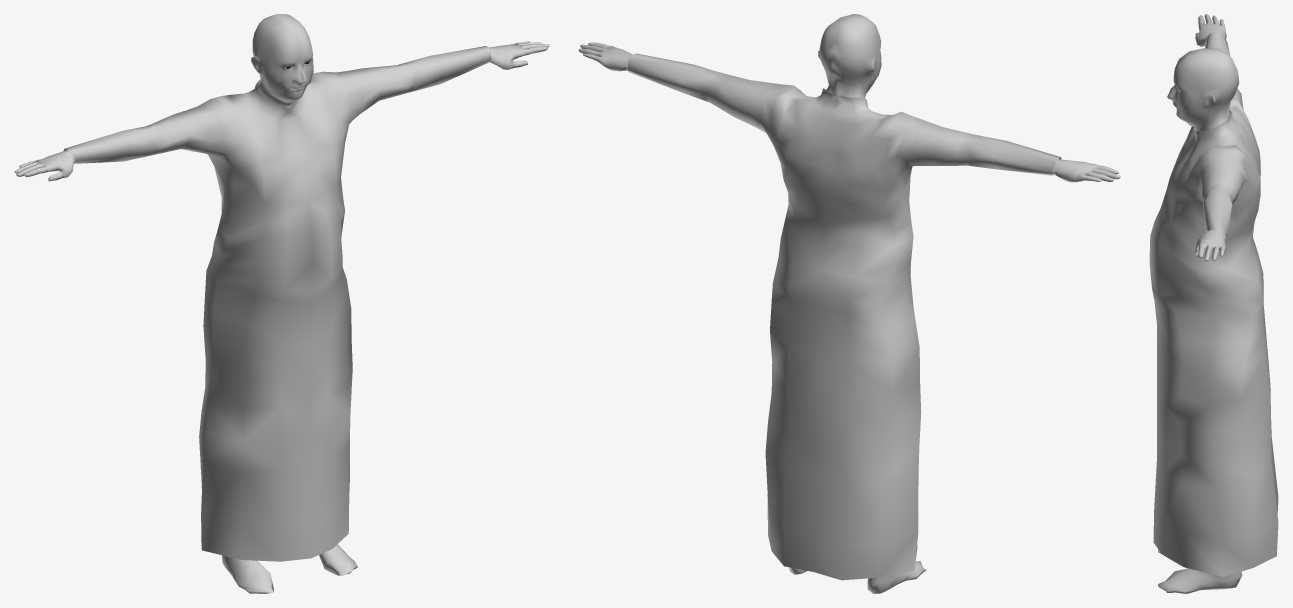
Rendered from Padre.fbx.
The picture shows the model from 3 angles, left to right: view 1: azimuth 30°, elevation 25°; view 2: azimuth 150°, elevation 25°; view 3: azimuth 270°, elevation 25°; orthographic projection. The views are drawn at different scales.
Visible parts, largest first — view 1: Corpo; view 2: Corpo; view 3: Corpo.
Part boxes in pixels (x1=…): Corpo: x1=14, y1=14, x2=549, y2=593; Corpo: x1=578, y1=14, x2=1120, y2=593; Corpo: x1=1149, y1=14, x2=1278, y2=593.
Bounding box in the file's own units: 167 × 165 × 37.1.
